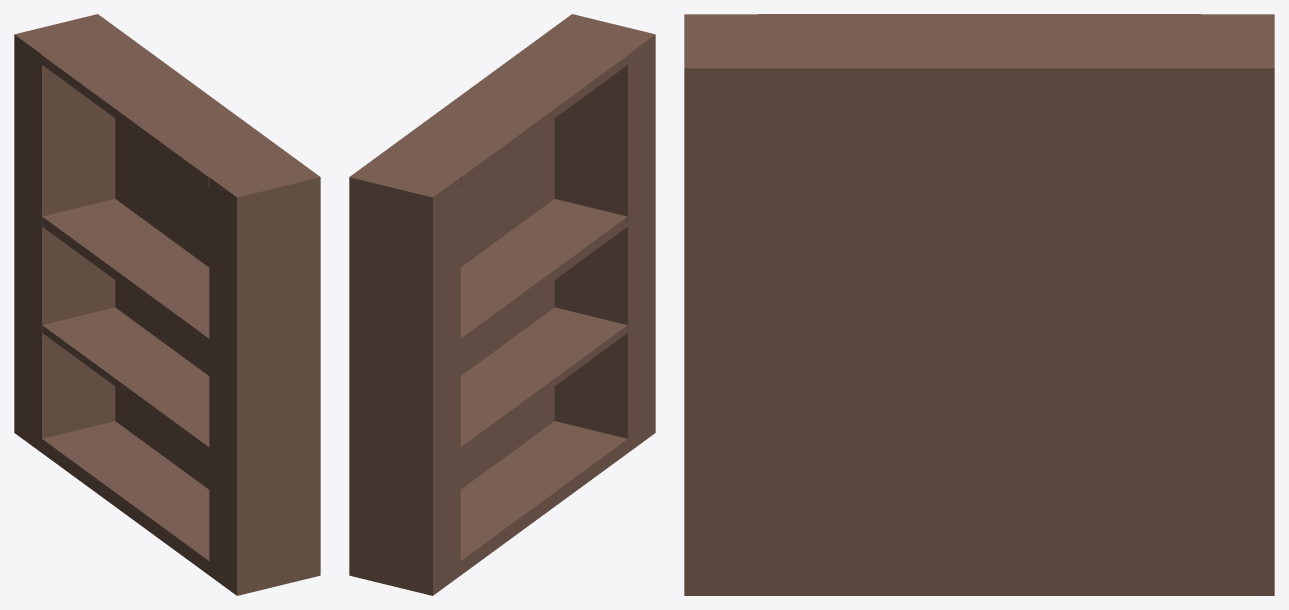
The model's file is cabinet.fbx.
3 views of the same model, side by side, from view 1: azimuth 30°, elevation 25°; view 2: azimuth 150°, elevation 25°; view 3: azimuth 270°, elevation 25° (orthographic). The views are drawn at different scales.
Parts seen in each view (by area): view 1: cabinet; view 2: cabinet; view 3: cabinet.
Part boxes in pixels (x1,y1,x2,y2): cabinet: (14,14,320,595); cabinet: (349,14,655,595); cabinet: (684,14,1274,595).
Bounding box in the file's own units: 99.44 × 450 × 456.
1 material, 1 textured.
